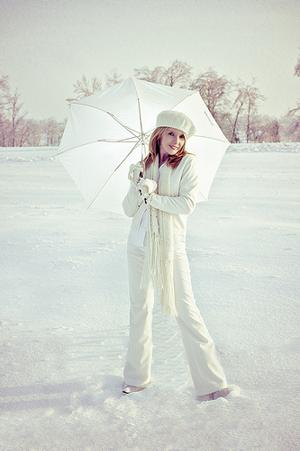person: (123, 108, 227, 402)
